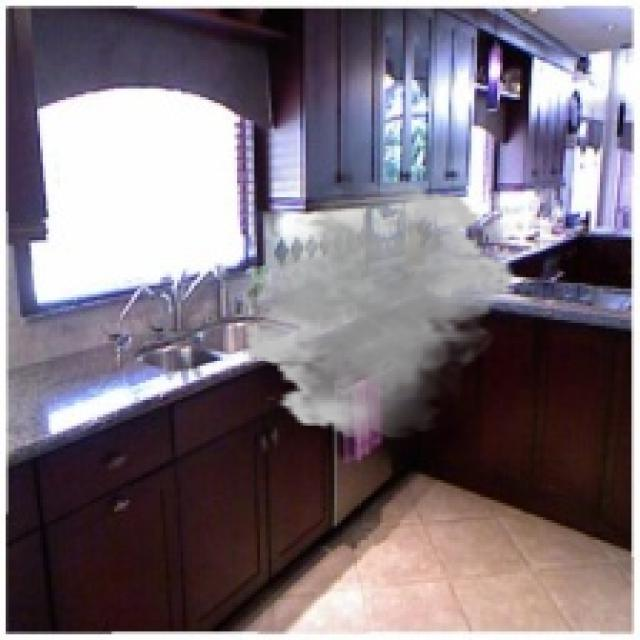smoke: (243, 177, 517, 443)
